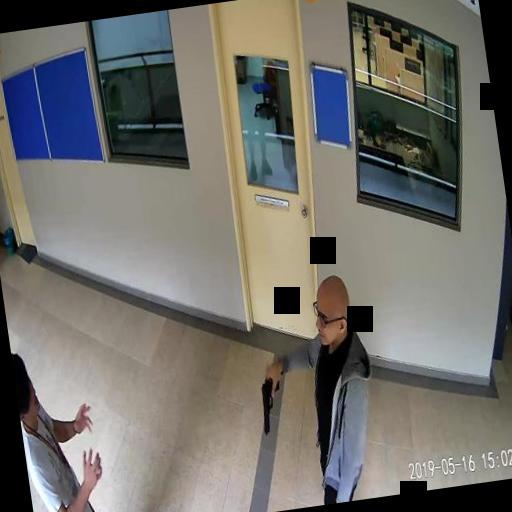Handgun: (256, 372, 286, 434)
